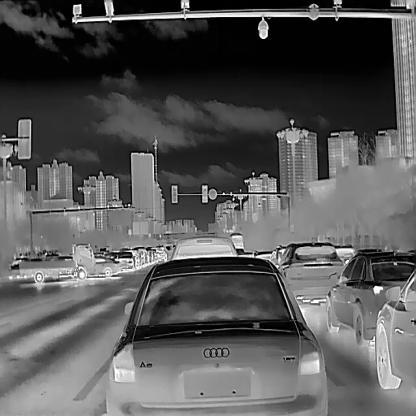car: (104, 255, 327, 415), (326, 253, 415, 346), (374, 270, 415, 388), (277, 241, 344, 303), (8, 242, 96, 282), (93, 252, 121, 277), (228, 232, 243, 255), (116, 251, 134, 269)
